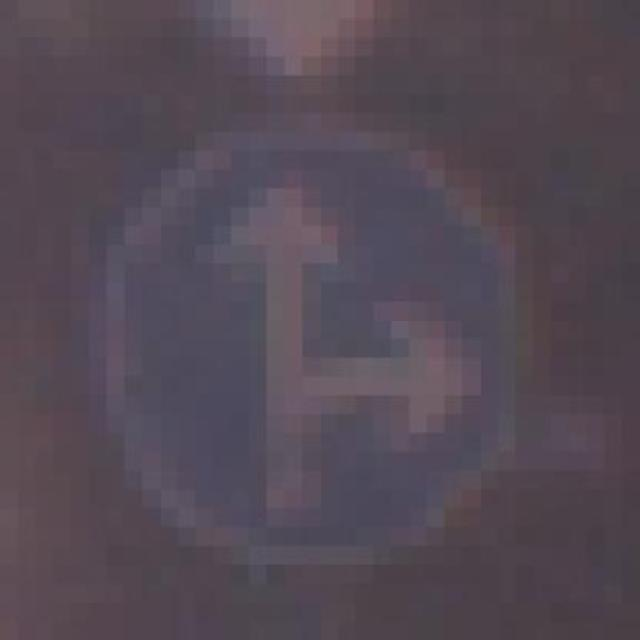Go Straight or Turn Right: (89, 94, 552, 583)
